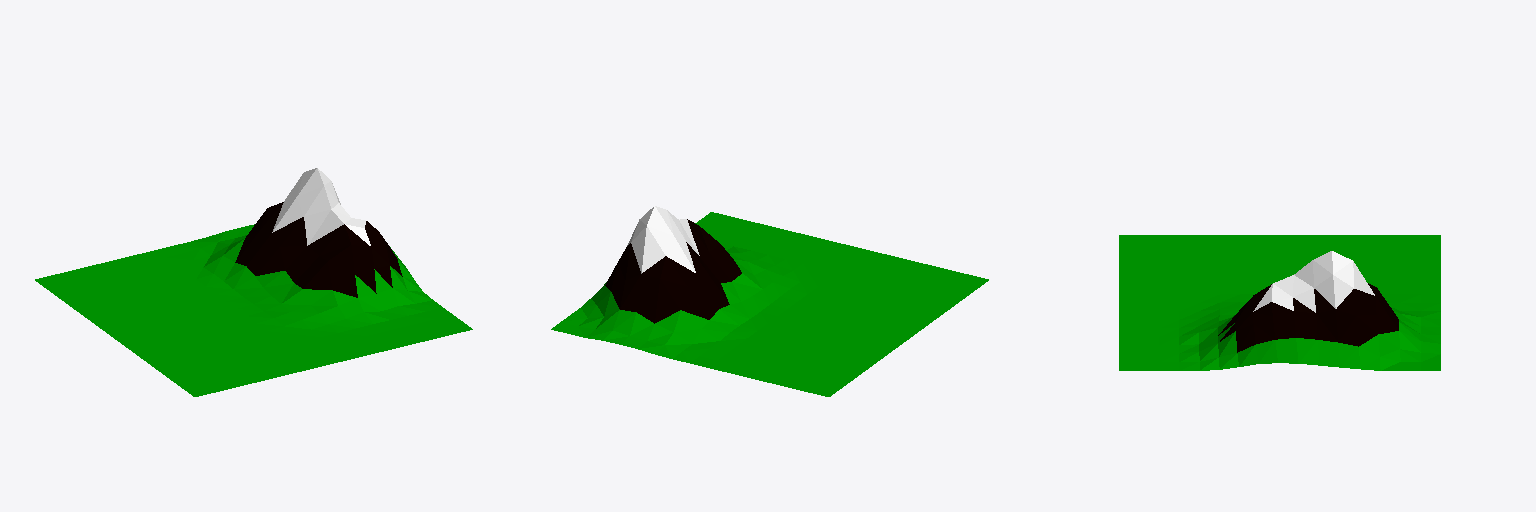
The model's file is Mountain1.obj.
3 views of the same model, side by side, from view 1: azimuth 30°, elevation 25°; view 2: azimuth 150°, elevation 25°; view 3: azimuth 270°, elevation 25° (orthographic).
Bounding box in the file's own units: 14.16 × 4.59 × 13.93.